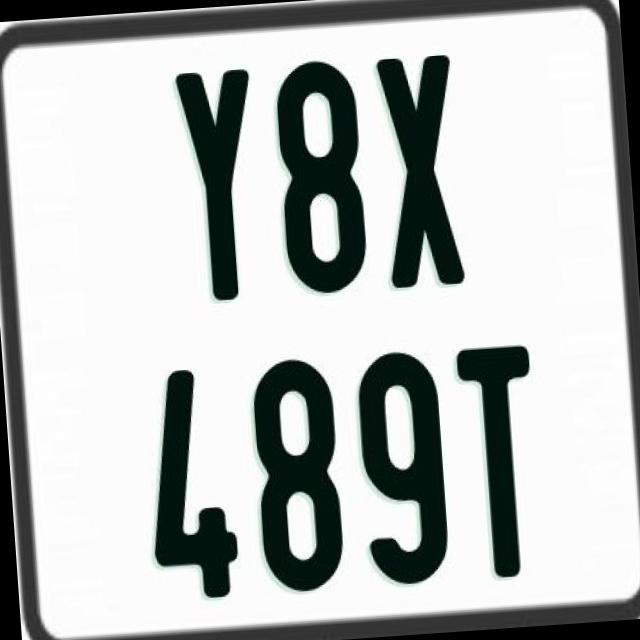4: (140, 363, 240, 598)
8: (270, 55, 369, 296), (247, 356, 346, 596)
9: (354, 348, 454, 586)
T: (454, 341, 546, 581)
X: (372, 50, 462, 292)
Y: (170, 67, 264, 304)
